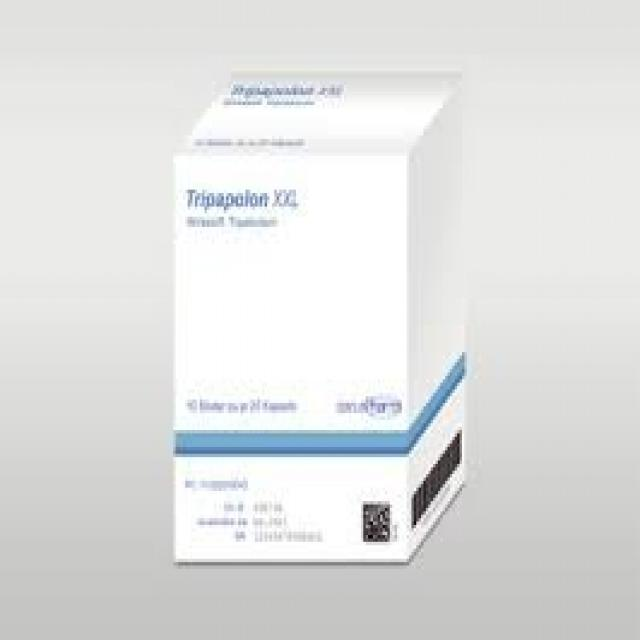datamatrix: (360, 499, 396, 543)
